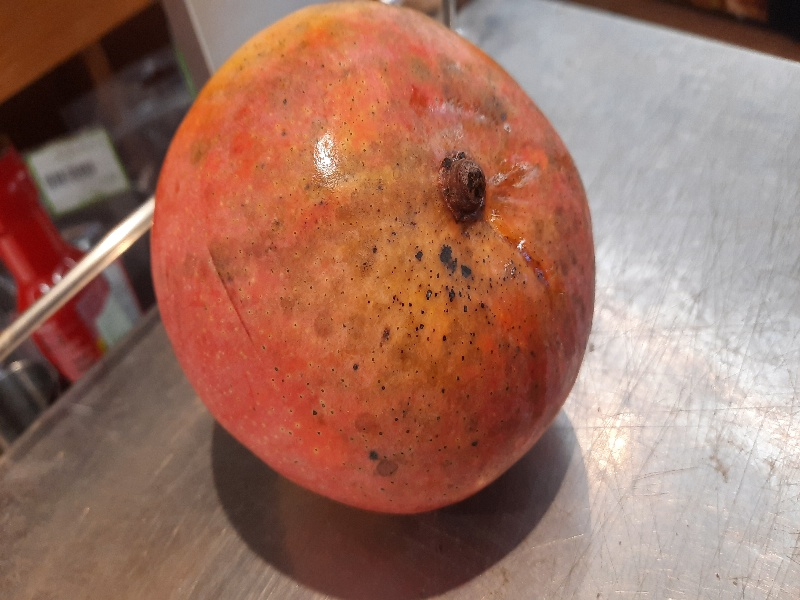fruit: (146, 4, 596, 518)
